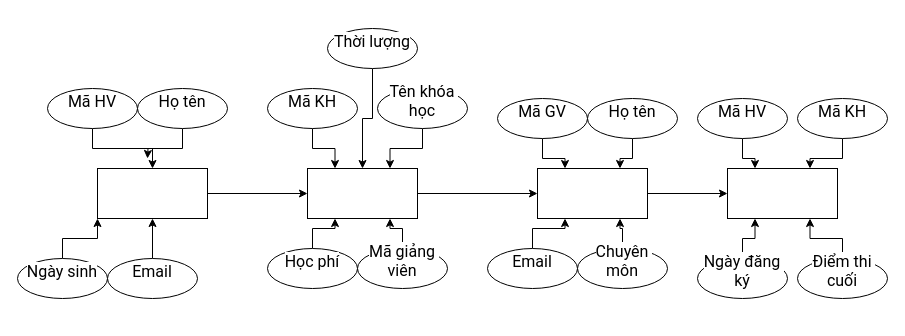
Image size: 905x336. Some labels were removed from this diagram. The shapes that lost their labels are listed below. From the top down, each one's centre as x and y in pixels, then its label:
At point (152, 193): "Student".
At point (362, 193): "Course".
At point (592, 193): "Instructor".
At point (782, 193): "Enrollment".
